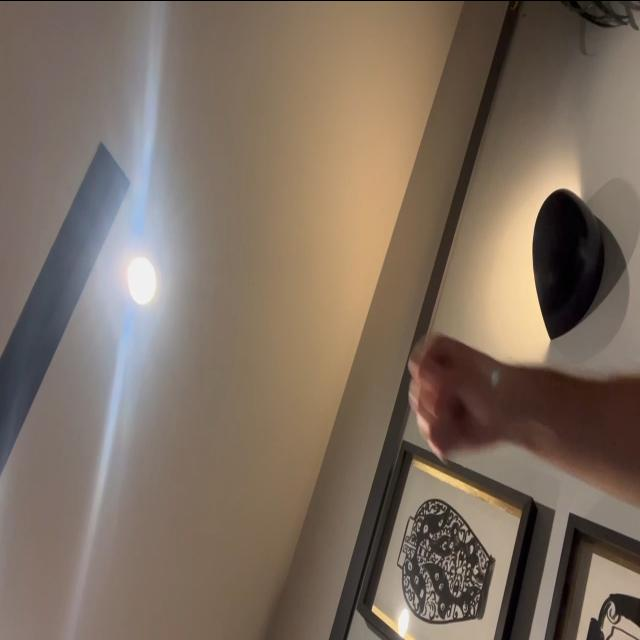Rock: (410, 332, 493, 461)
